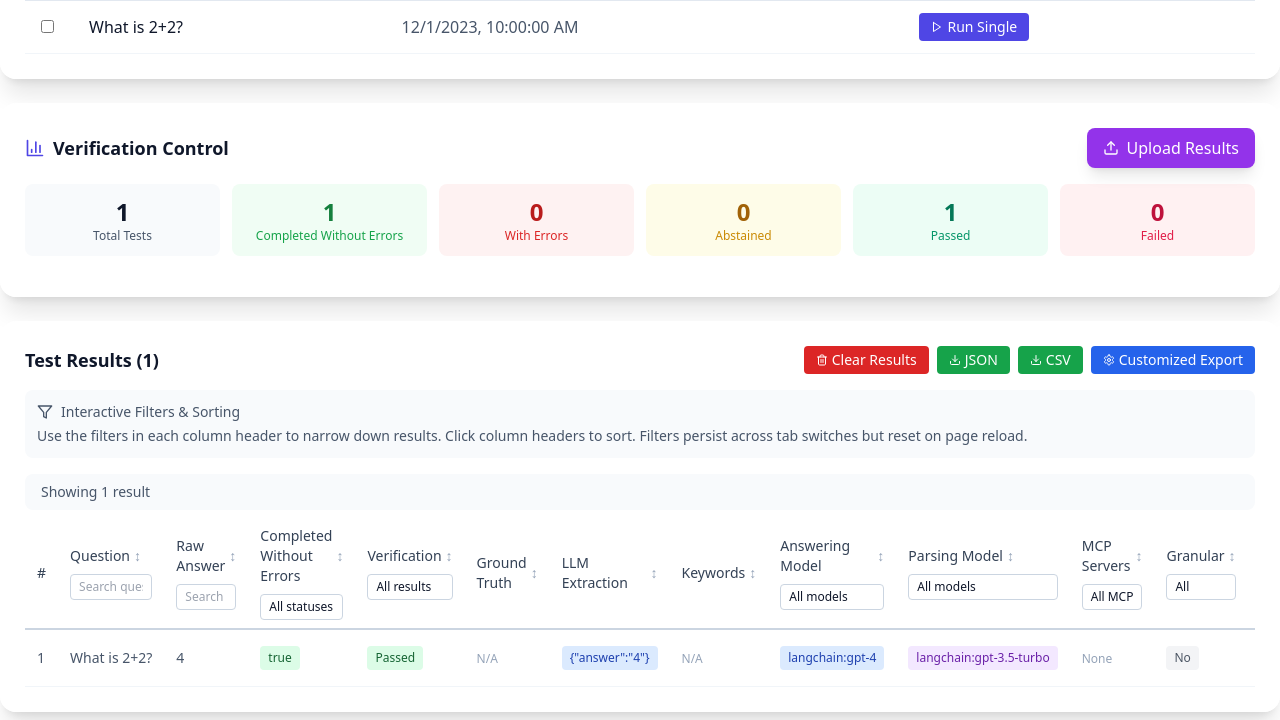
Test case: EmbeddingCheck UI Components › Export Dialog › should include embedding fields in export options
This screenshot has width=1280, height=720.
(page scrolled)
Click the button "Customized Export" at [1173, 360], box top-left (1091, 346), bottom-right (1255, 374)
(page scrolled)
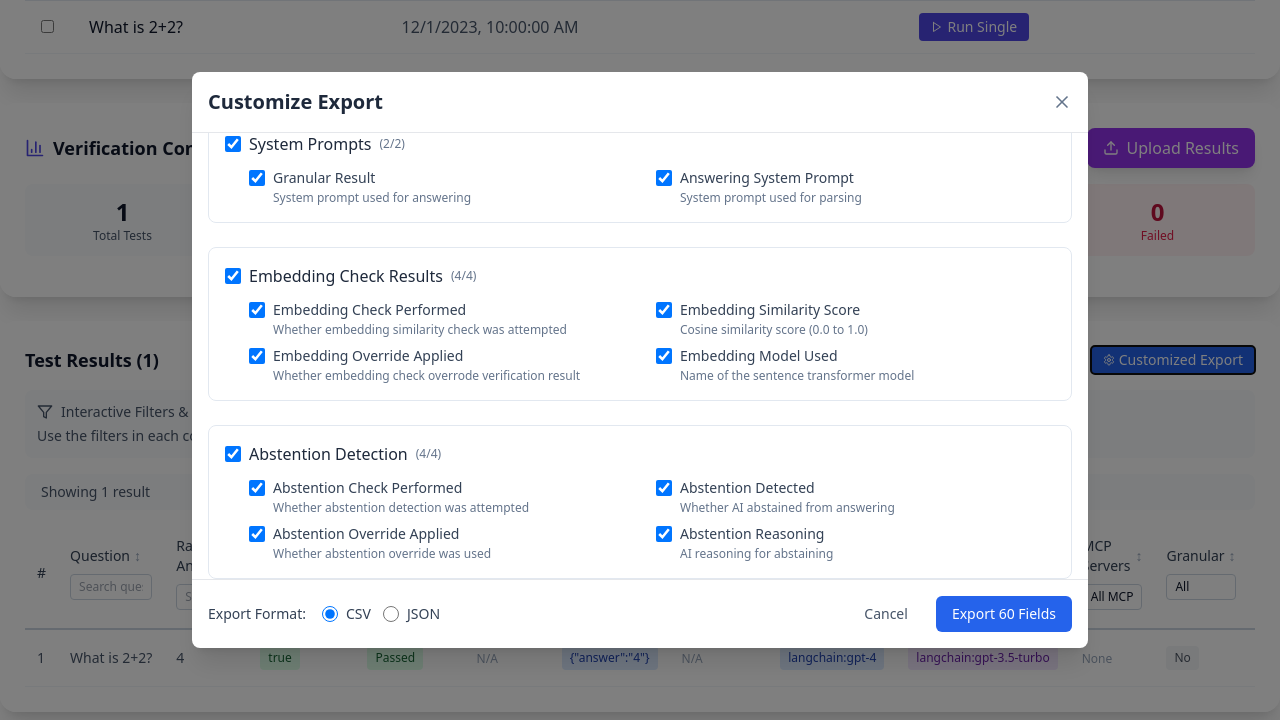
Now the text "Embedding Check Results" is shown, box top-left (249, 264), bottom-right (443, 288)
Now the text "Embedding Check Performed" is shown, box top-left (273, 300), bottom-right (466, 319)
Now the text "Embedding Similarity Score" is shown, box top-left (680, 300), bottom-right (868, 320)
